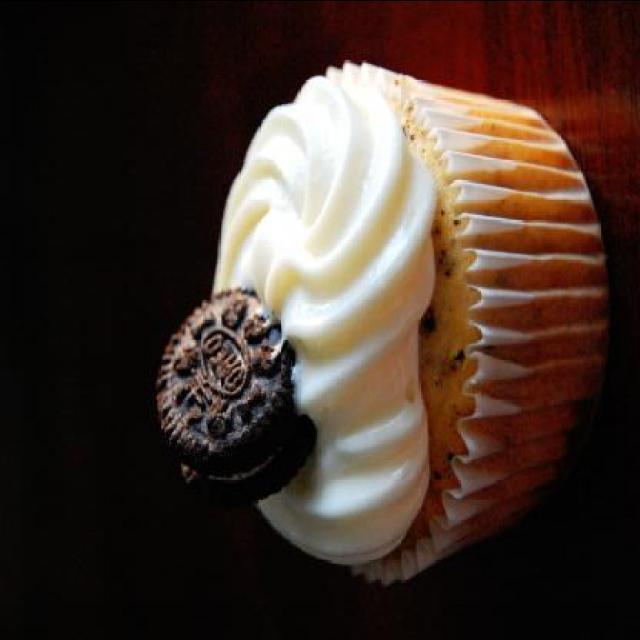Muffin: (153, 68, 610, 577)
